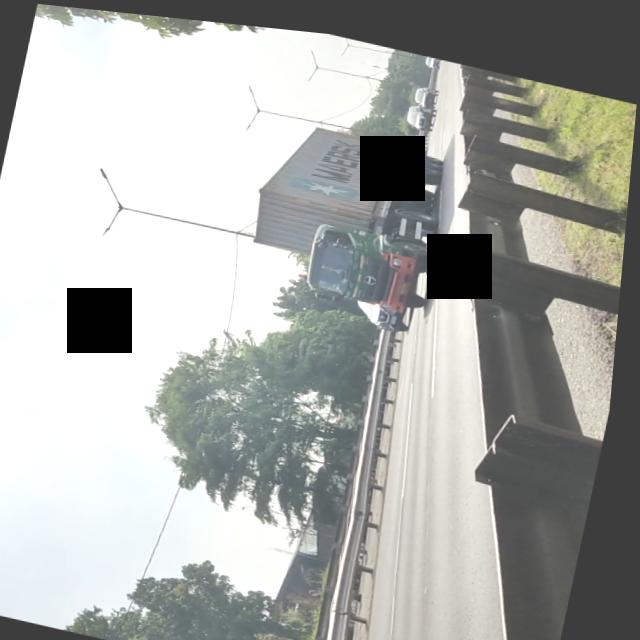Golongan V: (255, 107, 460, 308)
